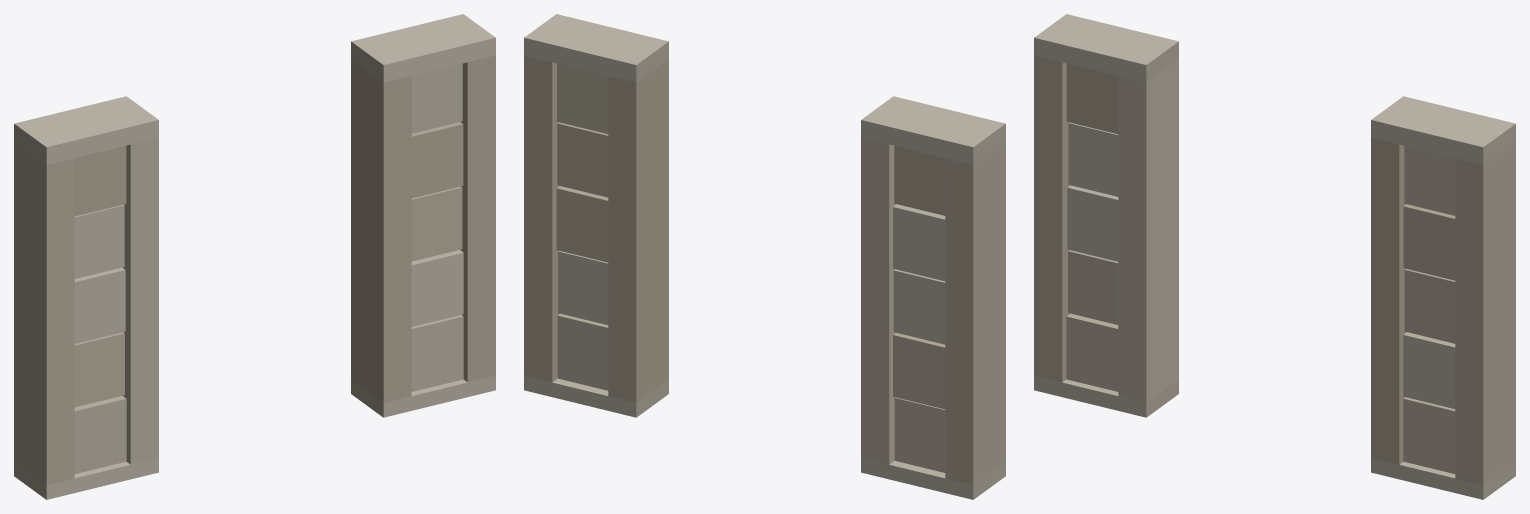
The model's file is DoorWall8.glb.
3 renders of one model, left to right at view 1: azimuth 30°, elevation 25°; view 2: azimuth 150°, elevation 25°; view 3: azimuth 330°, elevation 25°, orthographic.
Visible parts, largest first — view 1: Wood; view 2: Wood; view 3: Wood.
Part boxes in pixels (x1,y1,x2,y2): Wood: [14, 14, 495, 499]; Wood: [524, 14, 1005, 499]; Wood: [1034, 14, 1515, 499].
Bounding box in the file's own units: 8 × 6 × 1.
